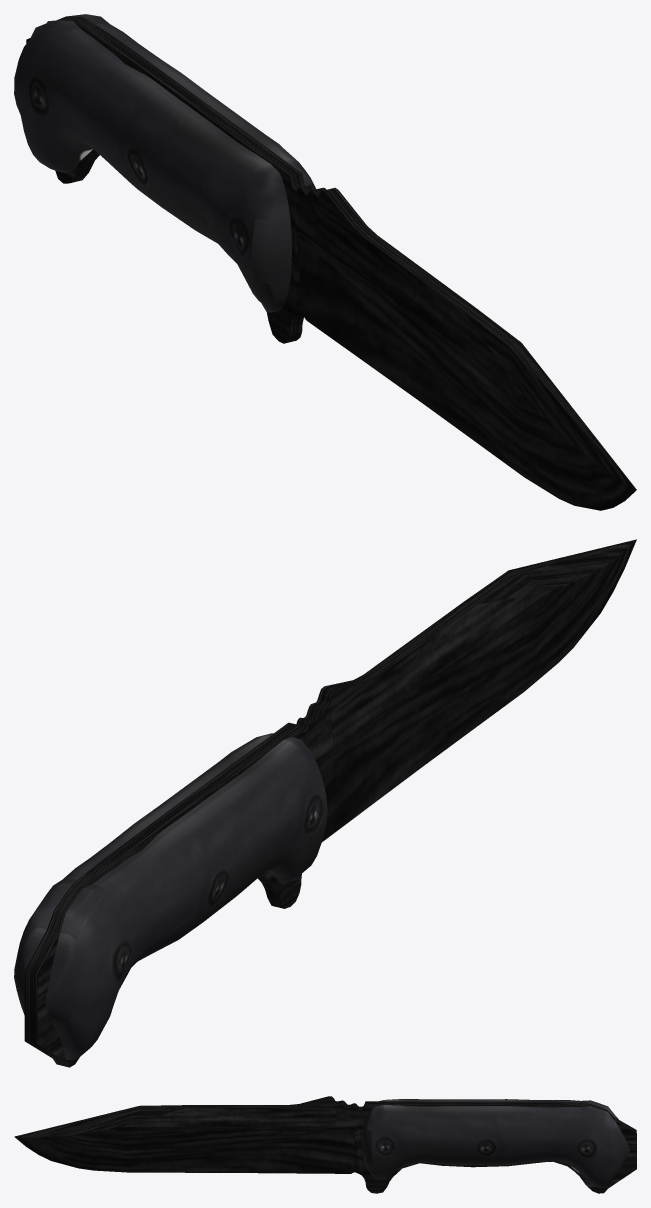
The model's file is Knife.fbx.
3 renders of one model, top to bottom at view 1: azimuth 30°, elevation 25°; view 2: azimuth 150°, elevation 25°; view 3: azimuth 270°, elevation 25°, orthographic. The views are drawn at different scales.
Parts seen in each view (by area): view 1: Knife; view 2: Knife; view 3: Knife.
Boxes of the visible parts, x1=… form: Knife: x1=14, y1=14, x2=636, y2=510; Knife: x1=14, y1=539, x2=636, y2=1067; Knife: x1=14, y1=1096, x2=636, y2=1193.
Bounding box in the file's own units: 7.05 × 14.19 × 85.15.
